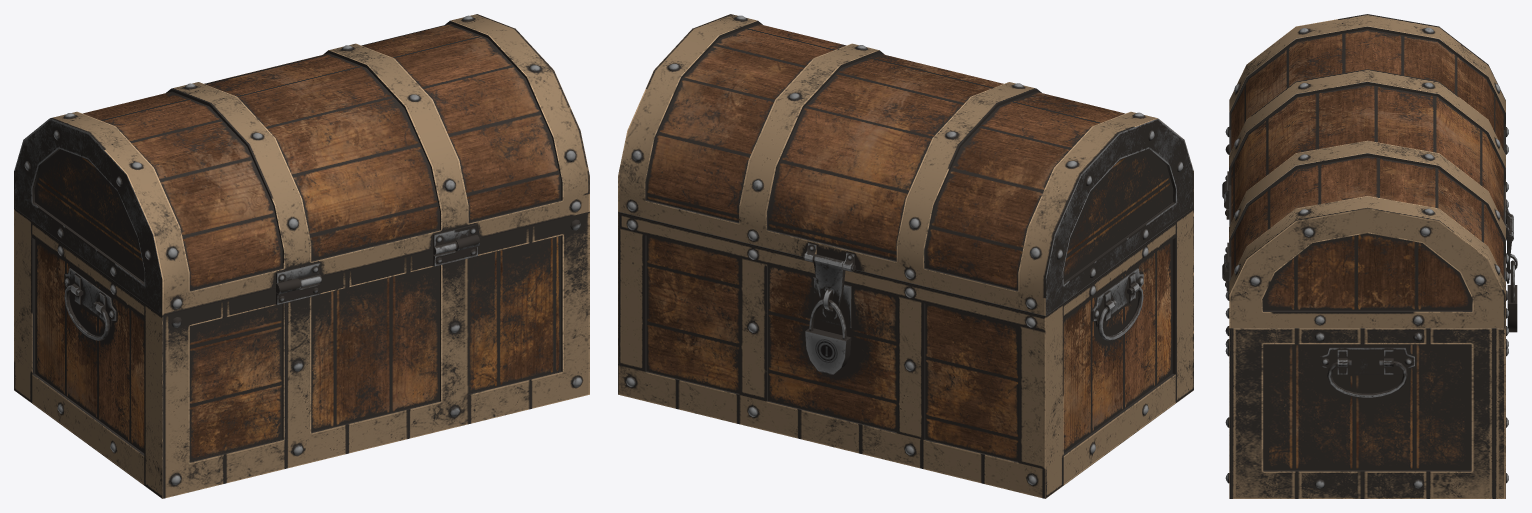
File: chest_closed_lod0.glb
3 views of the same model, side by side, from view 1: azimuth 30°, elevation 25°; view 2: azimuth 150°, elevation 25°; view 3: azimuth 270°, elevation 25° (orthographic). The views are drawn at different scales.
Visible parts, largest first — view 1: chest_closed_lod0; view 2: chest_closed_lod0; view 3: chest_closed_lod0.
Part boxes in pixels (left/top/right/bottom): chest_closed_lod0: left=14, top=14, right=589, bottom=498; chest_closed_lod0: left=618, top=14, right=1193, bottom=498; chest_closed_lod0: left=1222, top=14, right=1517, bottom=498.
Size of the model in its own units: 0.4388 by 0.3 by 0.2763.
Materials: 1 (1 with a texture image).
